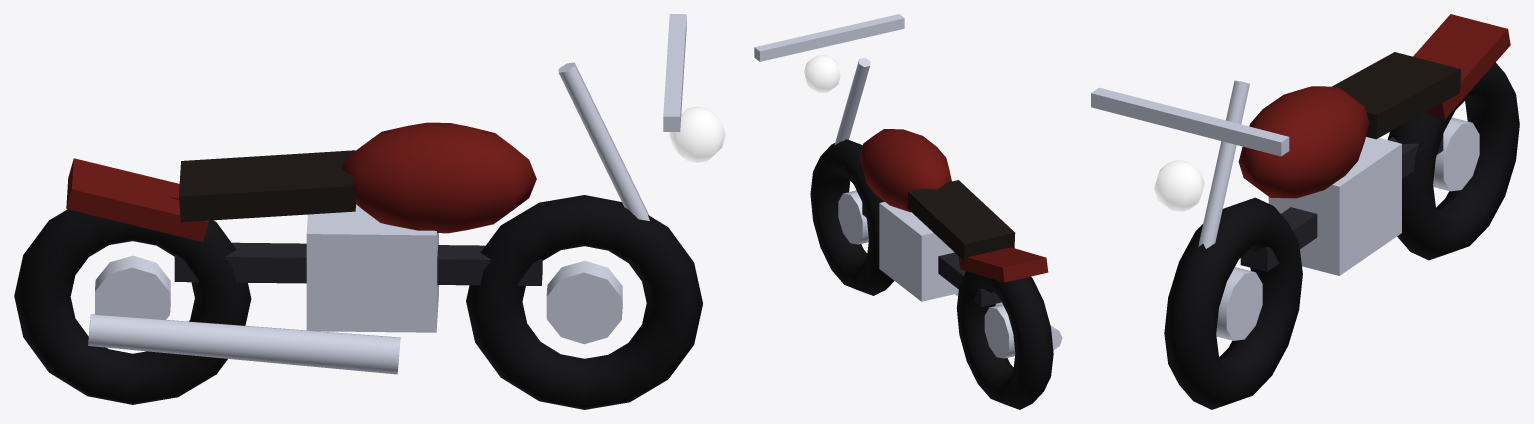
The model's file is Harley_2.glb.
3 views of the same model, side by side, from view 1: azimuth 30°, elevation 25°; view 2: azimuth 150°, elevation 25°; view 3: azimuth 270°, elevation 25° (orthographic). The views are drawn at different scales.
Visible parts, largest first — view 1: Harley_2; view 2: Harley_2; view 3: Harley_2.
Boxes of the visible parts, x1,y1,x2,y2 form: Harley_2: (14, 14, 725, 409); Harley_2: (754, 14, 1062, 409); Harley_2: (1091, 14, 1519, 409).
Bounding box in the file's own units: 2.25 × 1.35 × 1.65.
